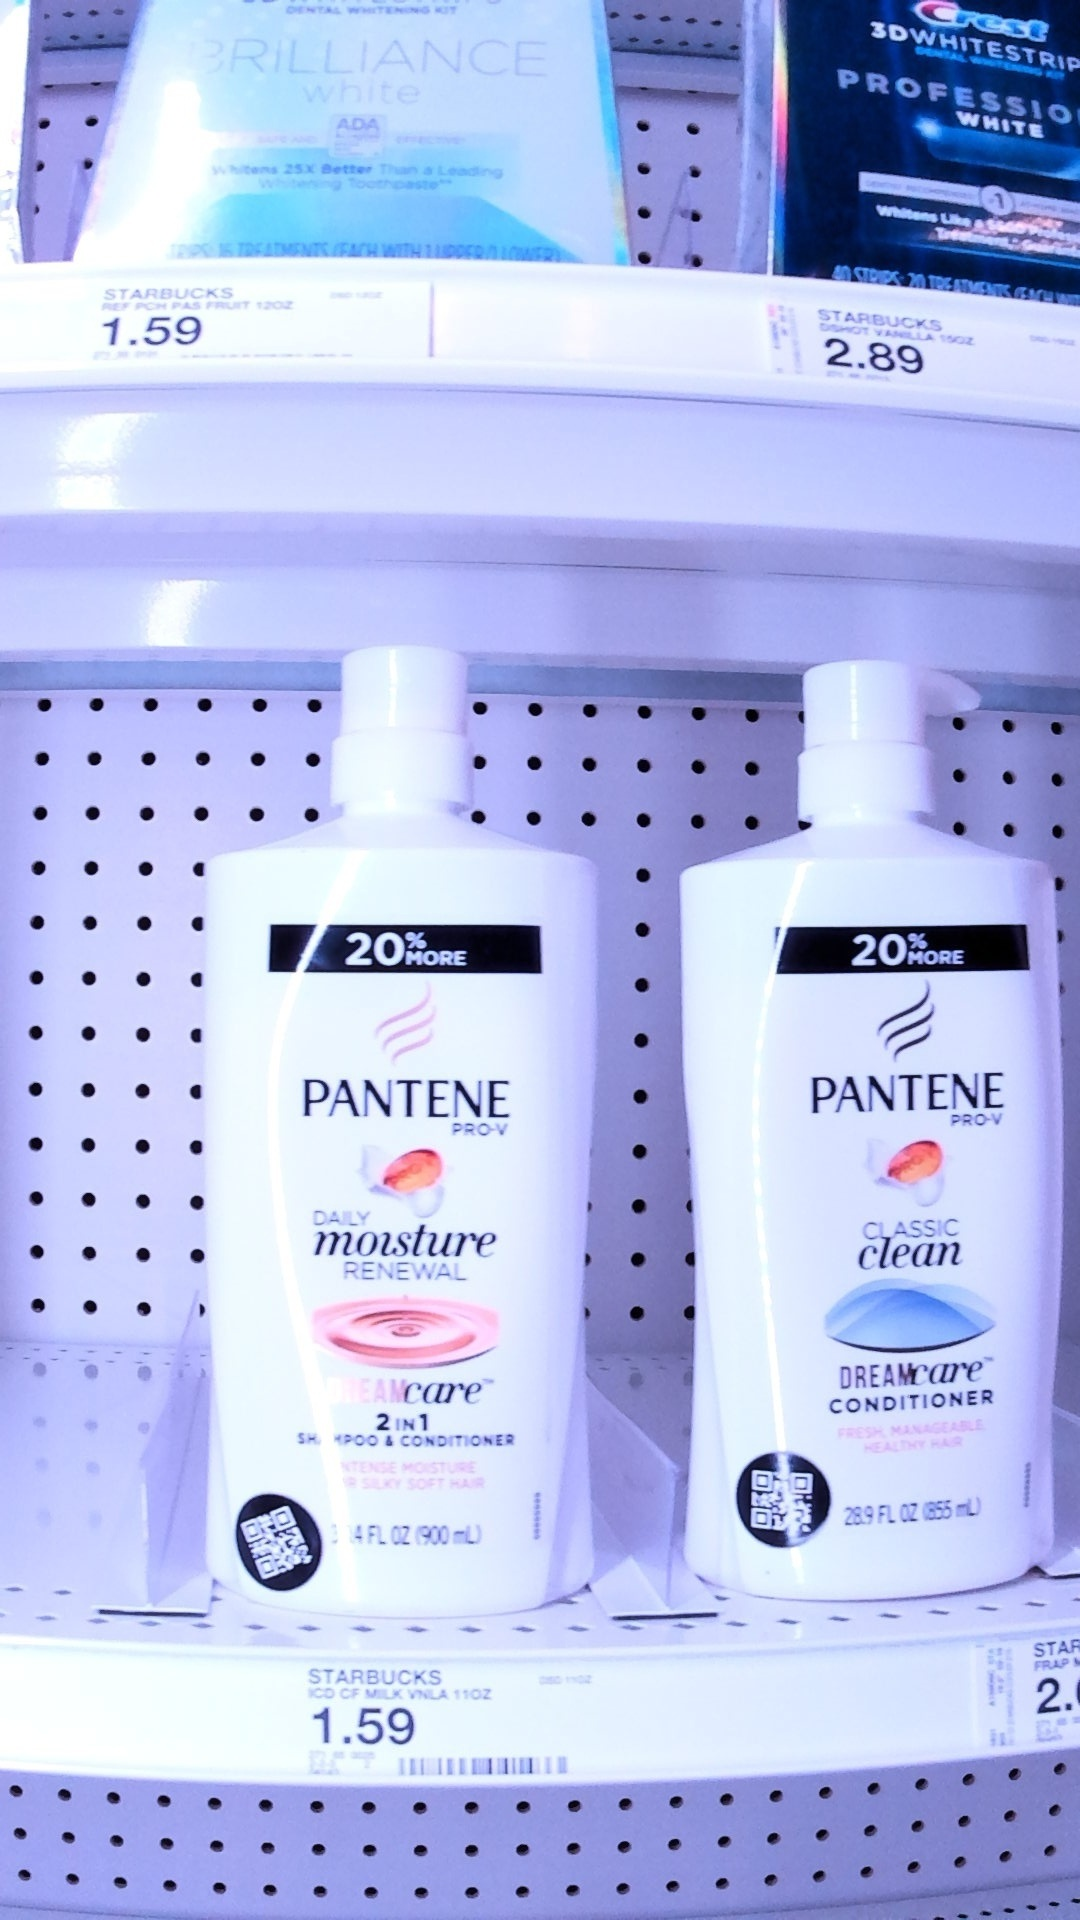ptag: (301, 1651, 597, 1795), (86, 262, 360, 371), (756, 277, 996, 397)
